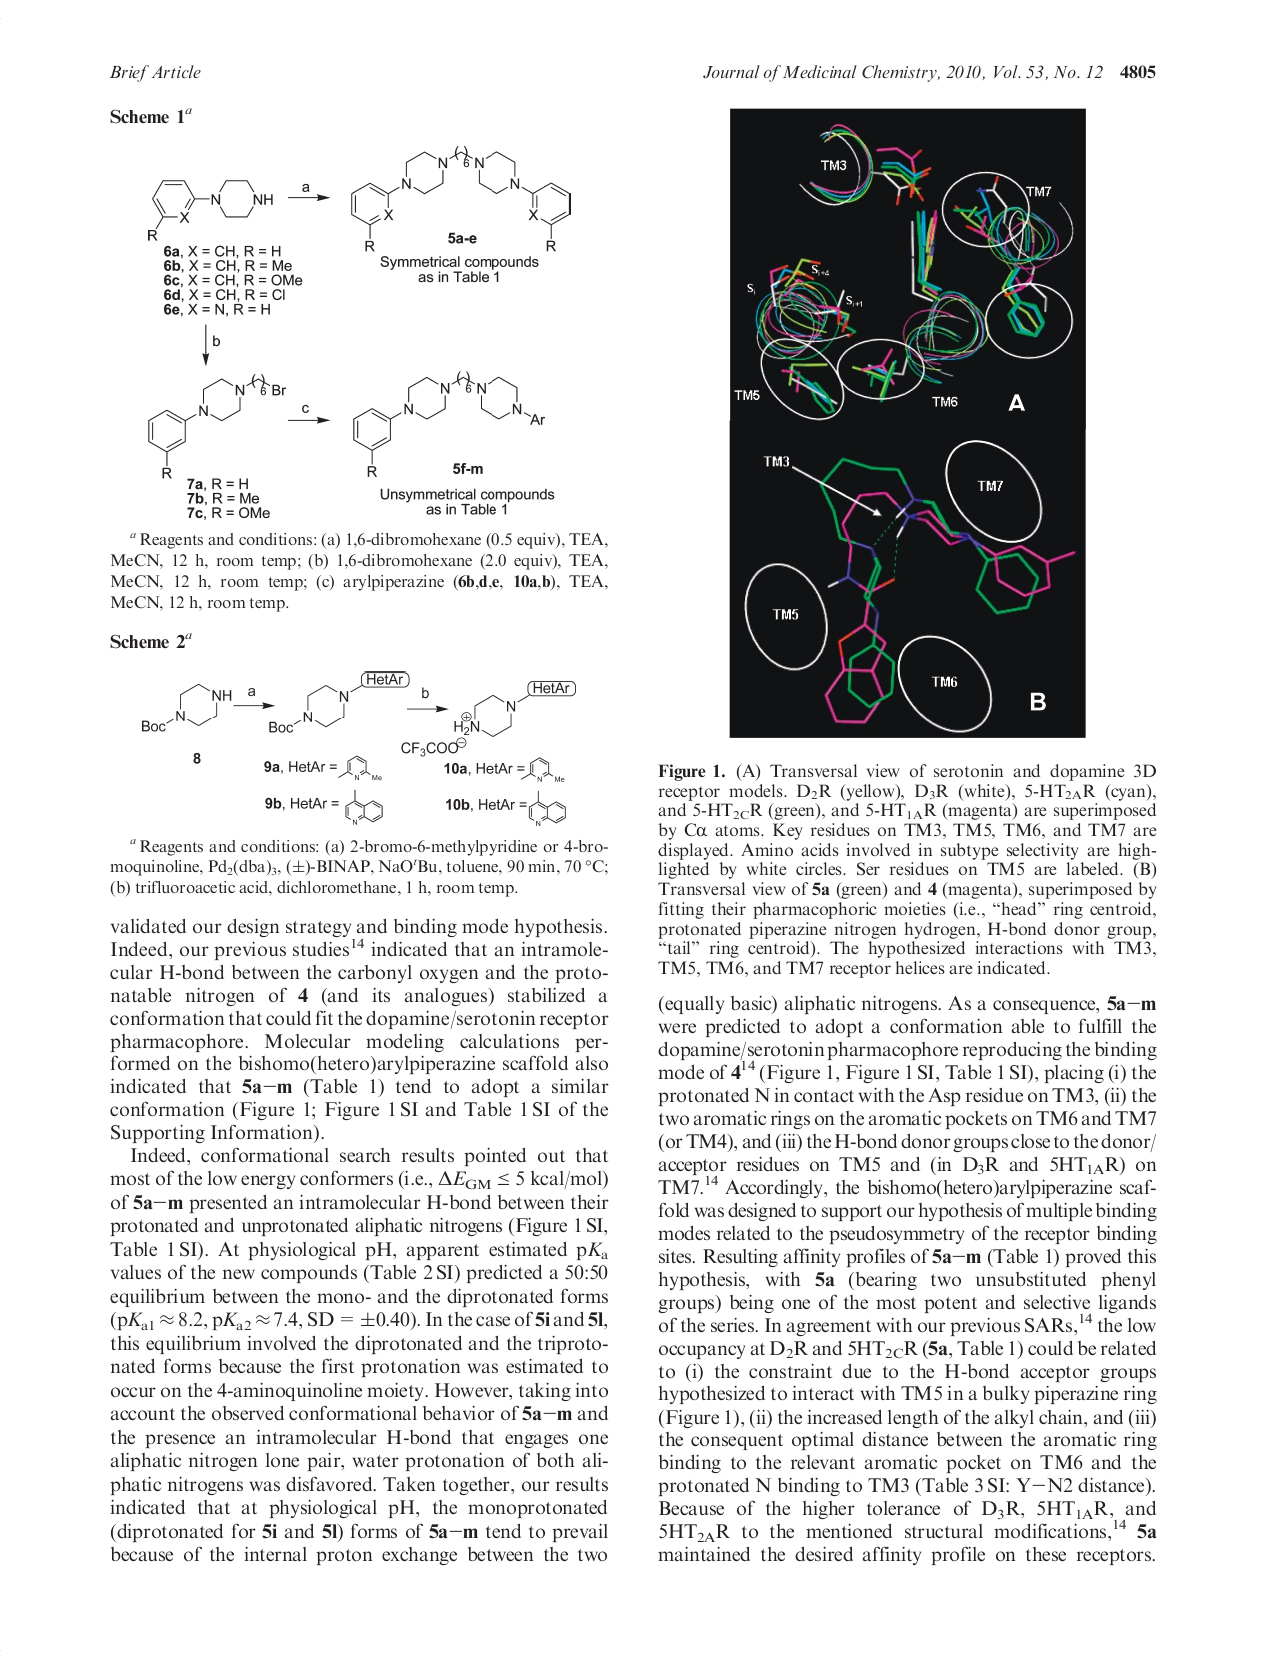exist_molecular: (348, 144, 573, 251), (348, 370, 545, 480), (146, 372, 287, 480), (402, 678, 578, 757), (266, 668, 411, 735), (146, 178, 274, 241), (140, 684, 233, 735), (344, 789, 386, 827), (528, 789, 568, 827), (336, 754, 382, 781), (520, 757, 567, 781)
